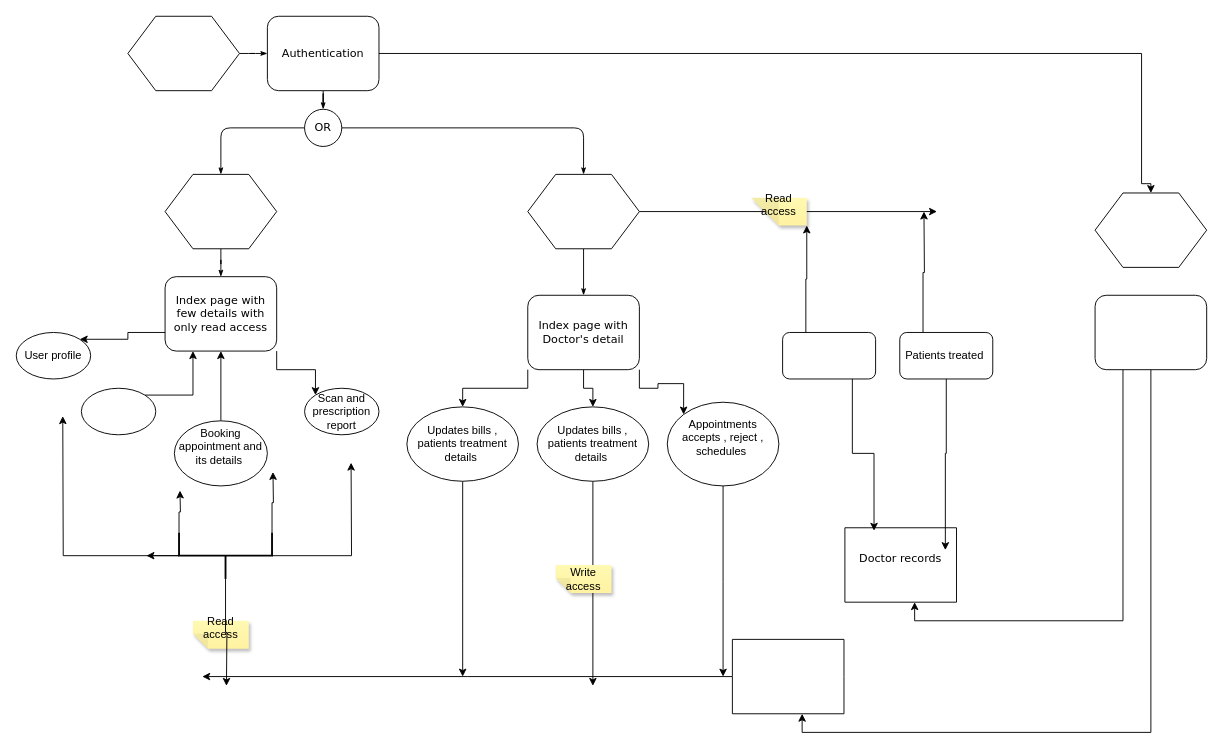
Image size: 1223x756. Some labels were removed from this diagram. The centre of each missing label's shape, as x and y in pixels:
"Admins" belongs at point (1150, 229).
"All privelage access" belongs at point (1150, 332).
"Bills and payments" belongs at point (118, 411).
"Doctors" belongs at point (583, 211).
"LOGIN" belongs at point (183, 53).
"Other doctor profiles" belongs at point (829, 355).
"patient database" belongs at point (787, 676).
"USER" belongs at point (220, 211).
